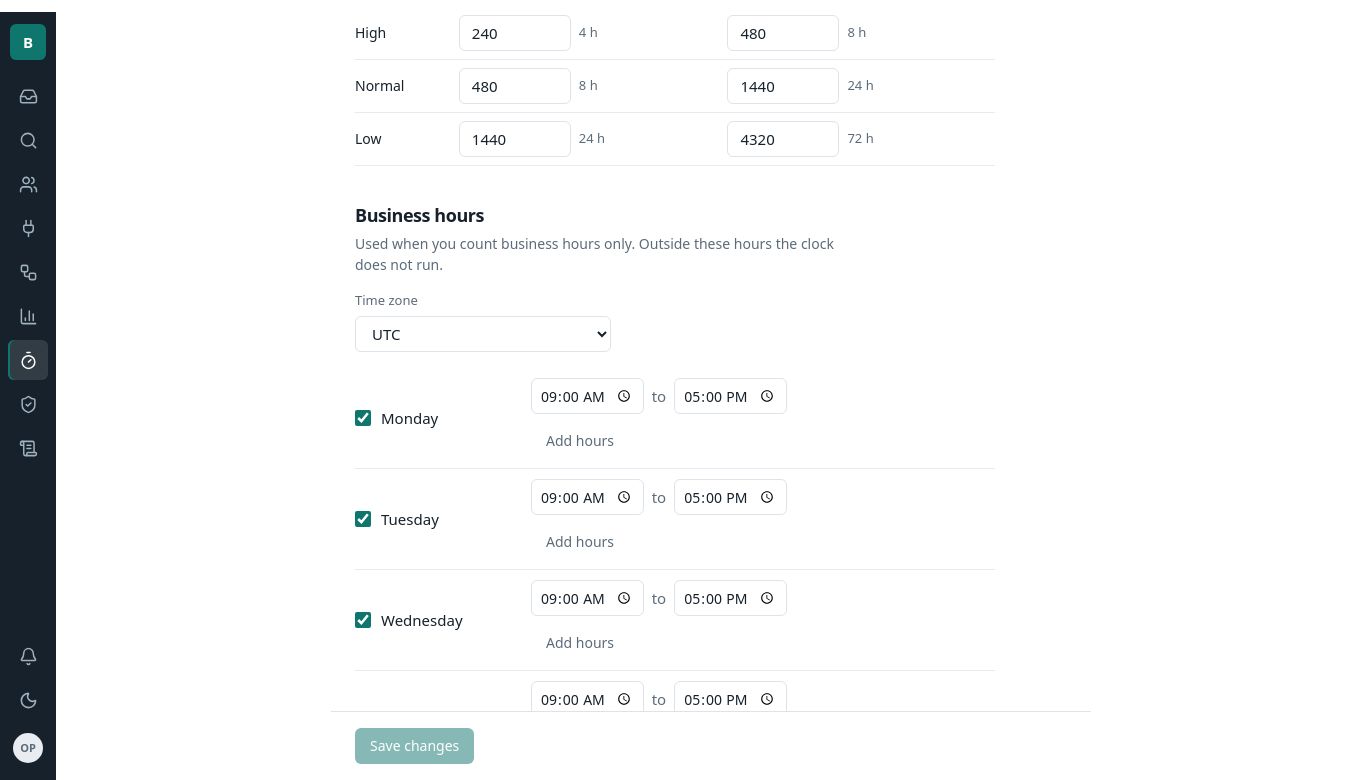
Scenario: service levels page › keeps the form and shows the reason when the server rejects a change
(page scrolled)
Replace the text in the time field named "Monday opens" with "18:00" at (587,396), box [531, 378, 644, 414]
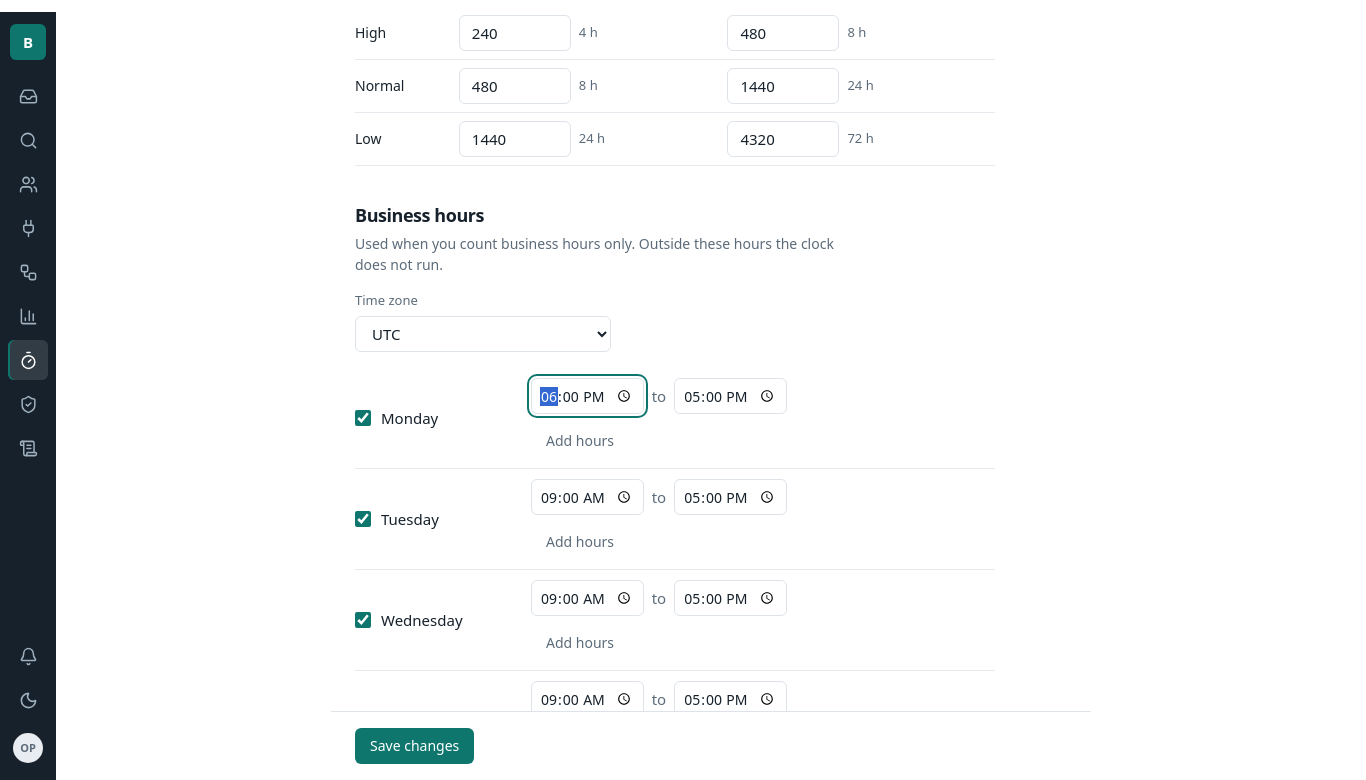
Click the button "Save changes" at (415,746), box [355, 728, 474, 764]
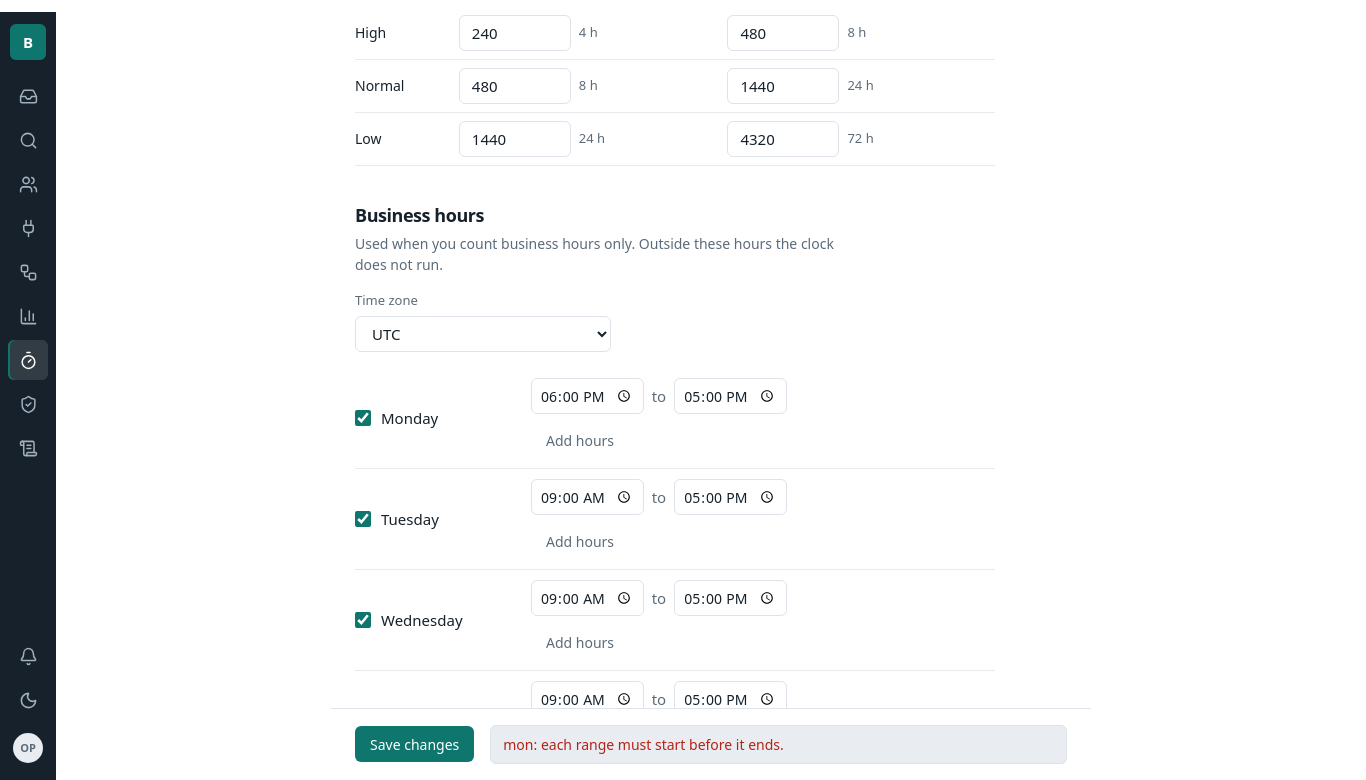
Expected: the message reads "mon: each range must start before it ends.", [503, 735, 784, 754]
